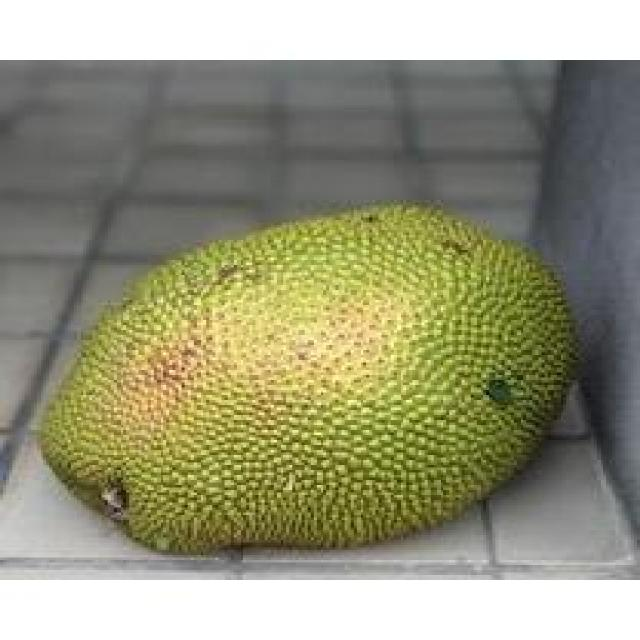fruit: (271, 148, 634, 622), (74, 213, 406, 625)
